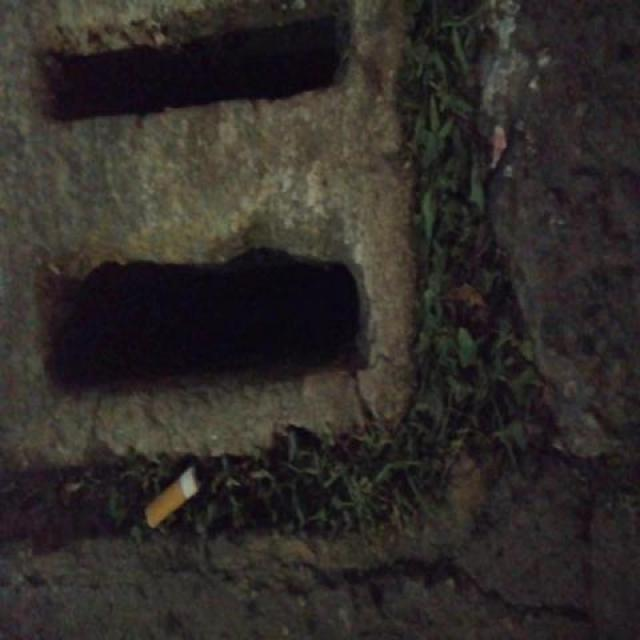non-organic waste: (140, 462, 204, 534)
